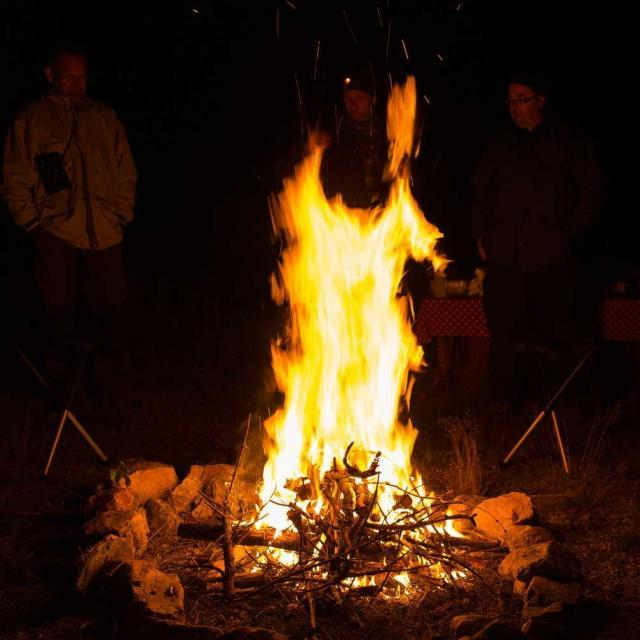Fire: (304, 224, 384, 452)
